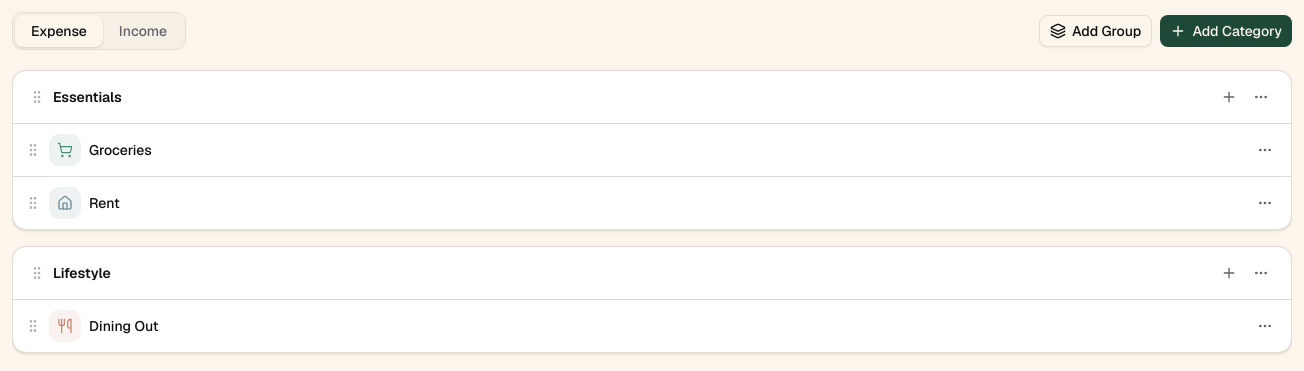
CategoryManager › switches to income tab and shows income groups
Click the tab "Income".
click(143, 31)  # box [103,15,183,47]
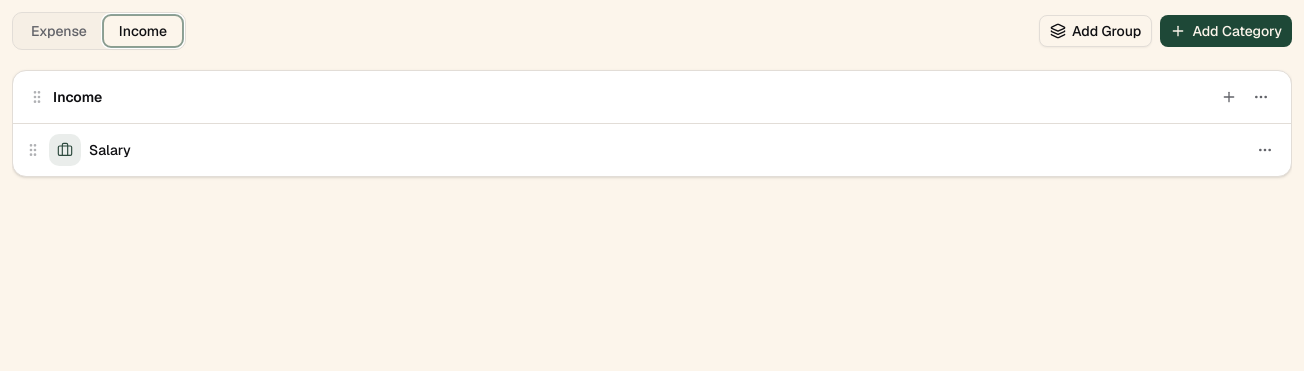
Expected: the text "Salary" is shown, [89,141,131,159]
Expected: the text "Groceries" is gone
